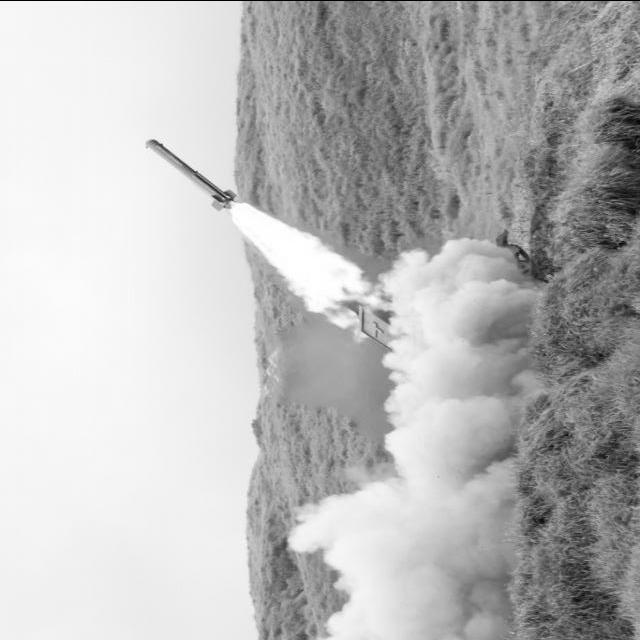missile: (147, 139, 233, 209)
